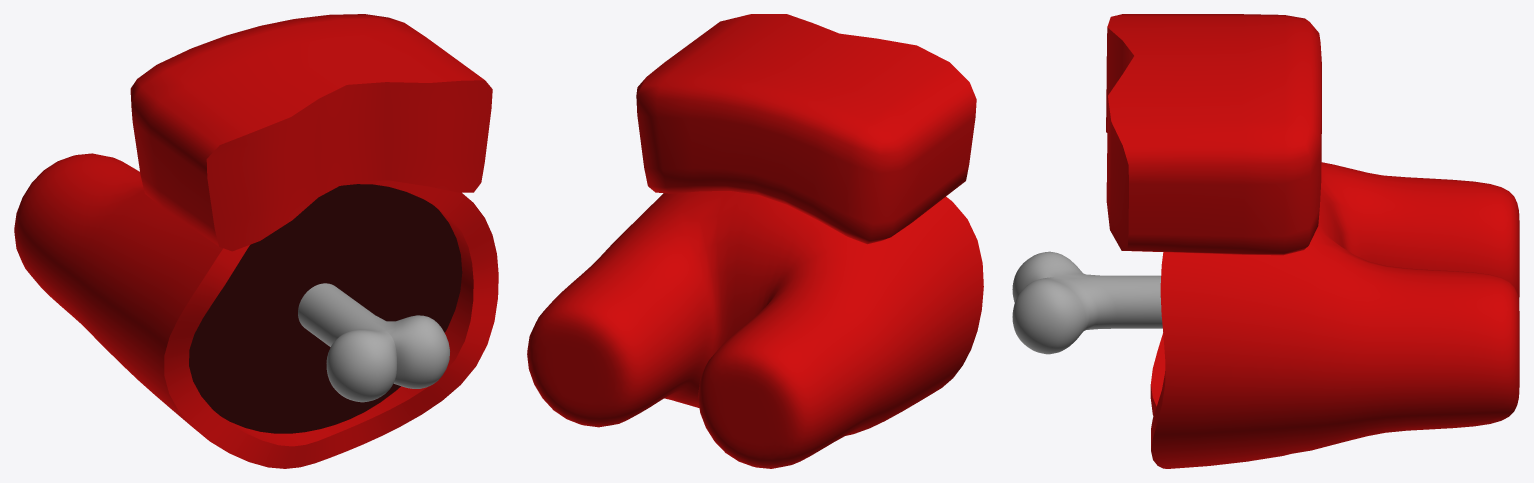
Rendered from dead.obj.
3 views of the same model, side by side, from view 1: azimuth 30°, elevation 25°; view 2: azimuth 150°, elevation 25°; view 3: azimuth 270°, elevation 25° (orthographic). The views are drawn at different scales.
Parts seen in each view (by area): view 1: Corpse_Cube.008, Corpse_Backpack_Cube.001; view 2: Corpse_Cube.008, Corpse_Backpack_Cube.001; view 3: Corpse_Cube.008, Corpse_Backpack_Cube.001.
Part boxes in pixels (bbox=[...]): Corpse_Cube.008: bbox=[14, 153, 498, 468]; Corpse_Backpack_Cube.001: bbox=[130, 14, 492, 251]; Corpse_Cube.008: bbox=[527, 191, 983, 468]; Corpse_Backpack_Cube.001: bbox=[636, 14, 976, 244]; Corpse_Cube.008: bbox=[1012, 162, 1519, 468]; Corpse_Backpack_Cube.001: bbox=[1106, 14, 1321, 255].
Size of the model in its own units: 0.7817 by 0.8616 by 1.01.
